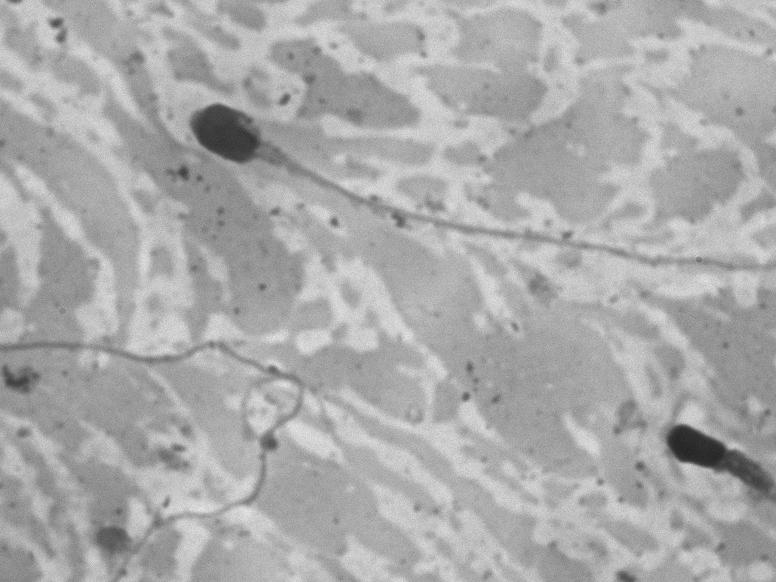Abnormal: (150, 80, 758, 278)
